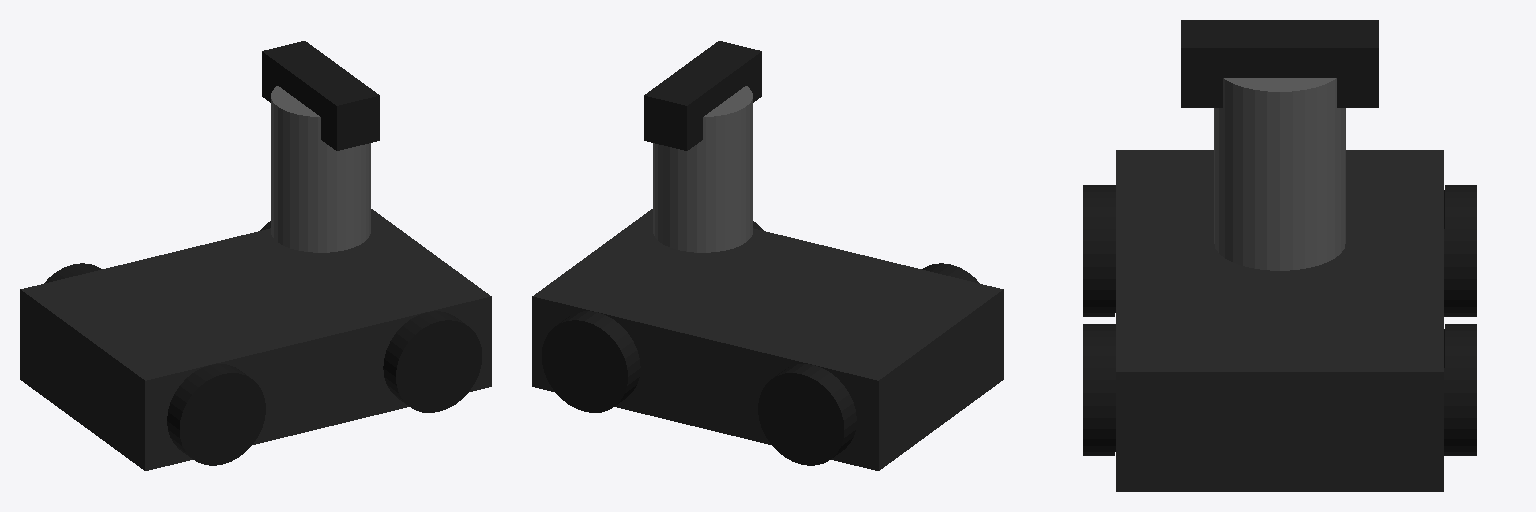
The robot description file, URDF, robot "skyhunter_pro_v3":
<?xml version="1.0" ?>
<robot name="skyhunter_pro_v3">

  <!-- MATERIAL DEFINITIONS -->
  <material name="dark_grey"><color rgba="0.2 0.2 0.2 1.0"/></material>
  <material name="light_grey"><color rgba="0.4 0.4 0.4 1.0"/></material>
  <material name="black"><color rgba="0.15 0.15 0.15 1.0"/></material>

  <!-- BASE LINK (Center of the robot, on the ground) -->
  <link name="base_link"/>

  <!-- CHASSIS LINK (The main body of the robot) -->
  <link name="chassis_link">
    <visual>
      <geometry><box size="0.8 0.5 0.2"/></geometry>
      <material name="dark_grey"/>
    </visual>
    <collision>
      <geometry><box size="0.8 0.5 0.2"/></geometry>
    </collision>
    <inertial>
      <mass value="25.0"/>
      <origin xyz="0 0 0" rpy="0 0 0"/>
      <inertia ixx="1.0" ixy="0.0" ixz="0.0" iyy="2.5" iyz="0.0" izz="2.5"/>
    </inertial>
  </link>
  <joint name="chassis_joint" type="fixed">
    <parent link="base_link"/>
    <child link="chassis_link"/>
    <origin xyz="0 0 0.1" rpy="0 0 0"/>
  </joint>

  <!-- ====================== WHEELS ====================== -->
  <link name="left_wheel_front">
    <visual><origin rpy="1.5707 0 0"/><geometry><cylinder radius="0.1" length="0.05"/></geometry><material name="black"/></visual>
    <collision><origin rpy="1.5707 0 0"/><geometry><cylinder radius="0.1" length="0.05"/></geometry></collision>
    <inertial><mass value="2"/><inertia ixx="0.1" ixy="0" ixz="0" iyy="0.1" iyz="0" izz="0.1"/></inertial>
  </link>
  <joint name="left_wheel_front_joint" type="continuous"><parent link="chassis_link"/><child link="left_wheel_front"/><origin xyz="0.25 0.275 0"/><axis xyz="0 1 0"/></joint>

  <link name="left_wheel_rear">
    <visual><origin rpy="1.5707 0 0"/><geometry><cylinder radius="0.1" length="0.05"/></geometry><material name="black"/></visual>
    <collision><origin rpy="1.5707 0 0"/><geometry><cylinder radius="0.1" length="0.05"/></geometry></collision>
    <inertial><mass value="2"/><inertia ixx="0.1" ixy="0" ixz="0" iyy="0.1" iyz="0" izz="0.1"/></inertial>
  </link>
  <joint name="left_wheel_rear_joint" type="continuous"><parent link="chassis_link"/><child link="left_wheel_rear"/><origin xyz="-0.25 0.275 0"/><axis xyz="0 1 0"/></joint>

  <link name="right_wheel_front">
    <visual><origin rpy="1.5707 0 0"/><geometry><cylinder radius="0.1" length="0.05"/></geometry><material name="black"/></visual>
    <collision><origin rpy="1.5707 0 0"/><geometry><cylinder radius="0.1" length="0.05"/></geometry></collision>
    <inertial><mass value="2"/><inertia ixx="0.1" ixy="0" ixz="0" iyy="0.1" iyz="0" izz="0.1"/></inertial>
  </link>
  <joint name="right_wheel_front_joint" type="continuous"><parent link="chassis_link"/><child link="right_wheel_front"/><origin xyz="0.25 -0.275 0"/><axis xyz="0 1 0"/></joint>

  <link name="right_wheel_rear">
    <visual><origin rpy="1.5707 0 0"/><geometry><cylinder radius="0.1" length="0.05"/></geometry><material name="black"/></visual>
    <collision><origin rpy="1.5707 0 0"/><geometry><cylinder radius="0.1" length="0.05"/></geometry></collision>
    <inertial><mass value="2"/><inertia ixx="0.1" ixy="0" ixz="0" iyy="0.1" iyz="0" izz="0.1"/></inertial>
  </link>
  <joint name="right_wheel_rear_joint" type="continuous"><parent link="chassis_link"/><child link="right_wheel_rear"/><origin xyz="-0.25 -0.275 0"/><axis xyz="0 1 0"/></joint>
  
  <!-- ====================== SENSOR MAST/TURRET ====================== -->
  <link name="turret_base_link">
    <visual><geometry><cylinder radius="0.1" length="0.3"/></geometry><origin xyz="0 0 0.15"/><material name="light_grey"/></visual>
    <inertial><mass value="1.0"/><inertia ixx="0.1" ixy="0" ixz="0" iyy="0.1" iyz="0" izz="0.1"/></inertial>
  </link>
  <joint name="turret_pan_joint" type="revolute"><parent link="chassis_link"/><child link="turret_base_link"/><origin xyz="0.15 0 0.2"/><axis xyz="0 0 1"/><limit lower="-3.14" upper="3.14" effort="10" velocity="1.0"/></joint>

  <link name="sensor_head_link">
    <visual><geometry><box size="0.1 0.3 0.1"/></geometry><material name="black"/></visual>
    <inertial><mass value="1.0"/><inertia ixx="0.1" ixy="0" ixz="0" iyy="0.1" iyz="0" izz="0.1"/></inertial>
  </link>
  <joint name="turret_tilt_joint" type="revolute"><parent link="turret_base_link"/><child link="sensor_head_link"/><origin xyz="0 0 0.3"/><axis xyz="0 1 0"/><limit lower="-0.785" upper="0.785" effort="10" velocity="1.0"/></joint>

  <link name="lidar_link"/>
  <joint name="lidar_joint" type="fixed"><parent link="sensor_head_link"/><child link="lidar_link"/><origin xyz="0 0 0.1"/></joint>
  <link name="imu_link"/>
  <joint name="imu_joint" type="fixed"><parent link="sensor_head_link"/><child link="imu_link"/><origin xyz="0 0 0.05"/></joint>

  <!-- ====================== GAZEBO PLUGINS ====================== -->

  <!-- DIFFERENTIAL DRIVE (for physics, WILL NOT MOVE unless commanded) -->
  <gazebo>
    <plugin name="differential_drive_controller" filename="libgazebo_ros_diff_drive.so">
      <ros/>
      <left_joint>left_wheel_front_joint</left_joint>
      <left_joint>left_wheel_rear_joint</left_joint>
      <right_joint>right_wheel_front_joint</right_joint>
      <right_joint>right_wheel_rear_joint</right_joint>
      <wheel_separation>0.55</wheel_separation>
      <wheel_diameter>0.2</wheel_diameter>
      <max_wheel_torque>200.0</max_wheel_torque>
      <max_wheel_acceleration>20.0</max_wheel_acceleration>
      <command_topic>cmd_vel</command_topic>
      <odometry_topic>odom</odometry_topic>
      <odometry_frame>odom</odometry_frame>
      <robot_base_frame>base_link</robot_base_frame>
      <publish_odom>true</publish_odom>
      <publish_odom_tf>true</publish_odom_tf>
    </plugin>
  </gazebo>
  
  <!-- SENSOR PLUGINS -->
  <gazebo reference="sensor_head_link">
    <!-- CORRECTED CAMERA PLACEMENT -->
    <sensor name="camera_rgb" type="camera">
      <pose>0.05 0.1 0 0 0 0</pose> <!-- Front, Right side of head -->
      <visualize>false</visualize>
      <update_rate>30.0</update_rate>
      <camera>
        <horizontal_fov>1.396</horizontal_fov>
        <image><width>800</width><height>600</height></image>
        <clip><near>0.1</near><far>100</far></clip>
      </camera>
      <plugin name="camera_rgb_controller" filename="libgazebo_ros_camera.so">
        <ros><remapping>image_raw:=camera/rgb/image_raw</remapping></ros>
      </plugin>
    </sensor>

    <sensor name="camera_ir" type="camera">
      <pose>0.05 -0.1 0 0 0 0</pose> <!-- Front, Left side of head -->
      <visualize>false</visualize>
      <update_rate>30.0</update_rate>
      <camera>
        <horizontal_fov>1.0</horizontal_fov>
        <image><width>640</width><height>480</height><format>L8</format></image>
        <clip><near>0.1</near><far>100</far></clip>
      </camera>
      <plugin name="camera_ir_controller" filename="libgazebo_ros_camera.so">
        <ros><remapping>image_raw:=camera/ir/image_raw</remapping></ros>
      </plugin>
    </sensor>
  </gazebo>
  
  <gazebo reference="lidar_link">
    <sensor name="lidar" type="ray">
      <always_on>true</always_on>
      <visualize>true</visualize>
      <update_rate>10</update_rate>
      <ray>
        <scan><horizontal><samples>360</samples><resolution>1</resolution><min_angle>-3.14</min_angle><max_angle>3.14</max_angle></horizontal></scan>
        <range><min>0.1</min><max>30.0</max><resolution>0.01</resolution></range>
      </ray>
      <plugin name="lidar_plugin" filename="libgazebo_ros_ray_sensor.so">
        <ros><remapping>~/out:=scan</remapping></ros>
        <output_type>sensor_msgs/PointCloud2</output_type>
        <frame_name>lidar_link</frame_name>
      </plugin>
    </sensor>
  </gazebo>

  <gazebo reference="imu_link">
    <sensor name="imu_sensor" type="imu">
      <always_on>true</always_on>
      <update_rate>100</update_rate>
      <plugin name="imu_plugin" filename="libgazebo_ros_imu_sensor.so">
        <ros><remapping>~/out:=imu/data</remapping></ros>
      </plugin>
    </sensor>
  </gazebo>
  
  <!-- GPS is usually on the main chassis, not the moving head -->
  <gazebo reference="chassis_link">
    <sensor name="gps_sensor" type="gps">
      <update_rate>10</update_rate>
      <plugin name="gps_plugin" filename="libgazebo_ros_gps_sensor.so">
        <ros><remapping>~/out:=gps/fix</remapping></ros>
      </plugin>
    </sensor>
  </gazebo>

</robot>

--- Facts derived from the render (not from the file) ---
The picture shows the robot from 3 angles, left to right: view 1: azimuth 30°, elevation 25°; view 2: azimuth 150°, elevation 25°; view 3: azimuth 270°, elevation 25°; orthographic projection.
Robot: skyhunter_pro_v3 — 10 links, 9 joints (2 revolute, 4 continuous, 3 fixed); root link base_link; default pose: all joints at 0.
Visible links, largest first — view 1: chassis_link, turret_base_link, right_wheel_front, right_wheel_rear, sensor_head_link; view 2: chassis_link, turret_base_link, left_wheel_front, left_wheel_rear, sensor_head_link; view 3: chassis_link, turret_base_link, sensor_head_link, right_wheel_front, right_wheel_rear, left_wheel_front, left_wheel_rear.
Boxes of the visible links, x1,y1,x2,y2 form: chassis_link: [20, 209, 491, 470]; turret_base_link: [271, 86, 370, 252]; right_wheel_front: [383, 311, 481, 412]; right_wheel_rear: [167, 364, 265, 465]; sensor_head_link: [262, 41, 379, 150]; chassis_link: [532, 209, 1003, 470]; turret_base_link: [653, 86, 752, 252]; left_wheel_front: [542, 311, 640, 412]; left_wheel_rear: [758, 364, 856, 465]; sensor_head_link: [644, 41, 761, 150]; chassis_link: [1116, 150, 1443, 491]; turret_base_link: [1214, 78, 1345, 270]; sensor_head_link: [1181, 20, 1378, 107]; right_wheel_front: [1083, 324, 1115, 455]; right_wheel_rear: [1083, 185, 1115, 316]; left_wheel_front: [1444, 324, 1476, 455]; left_wheel_rear: [1444, 185, 1476, 316].
Bounding box of the posed robot: 0.8 × 0.6 × 0.65 m (x, y, z).
Geometry: primitives only (box / cylinder / sphere), no mesh files.
